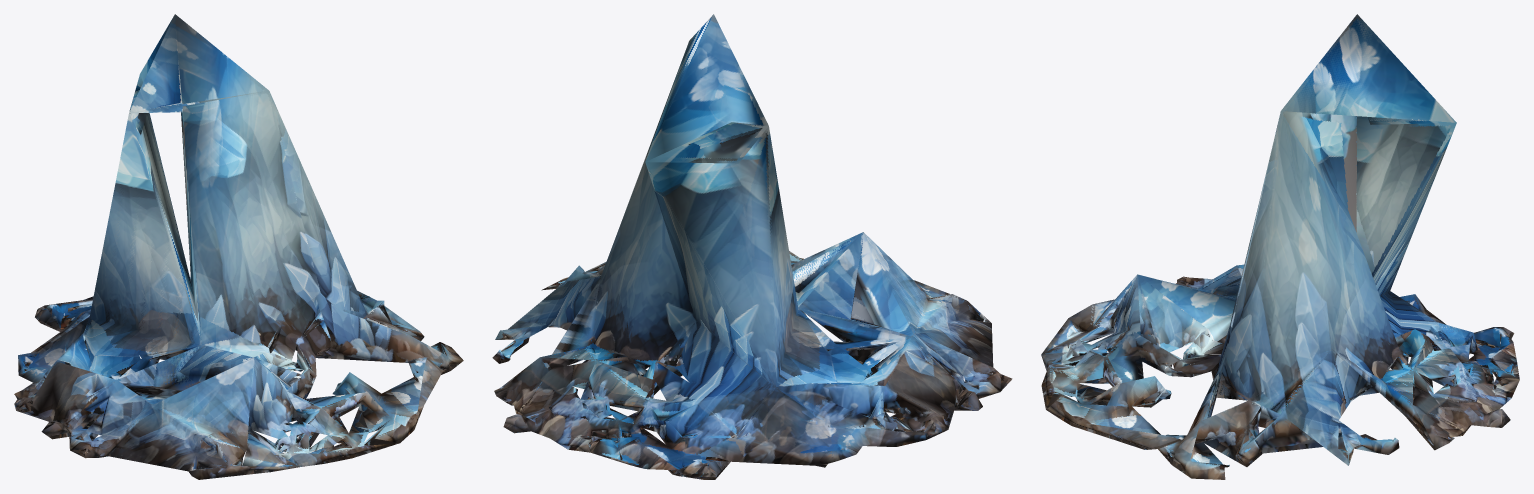
Rendered from Prop_PlantIcecap.fbx.
The picture shows the model from 3 angles, left to right: view 1: azimuth 30°, elevation 25°; view 2: azimuth 150°, elevation 25°; view 3: azimuth 270°, elevation 25°; orthographic projection. The views are drawn at different scales.
Visible parts, largest first — view 1: texture_mapping; view 2: texture_mapping; view 3: texture_mapping.
Part boxes in pixels (x1,y1,x2,y2): texture_mapping: [14, 14, 463, 479]; texture_mapping: [492, 14, 1012, 479]; texture_mapping: [1041, 14, 1519, 479].
Bounding box in the file's own units: 0.7041 × 0.7022 × 0.5871.
1 material, 1 textured.
